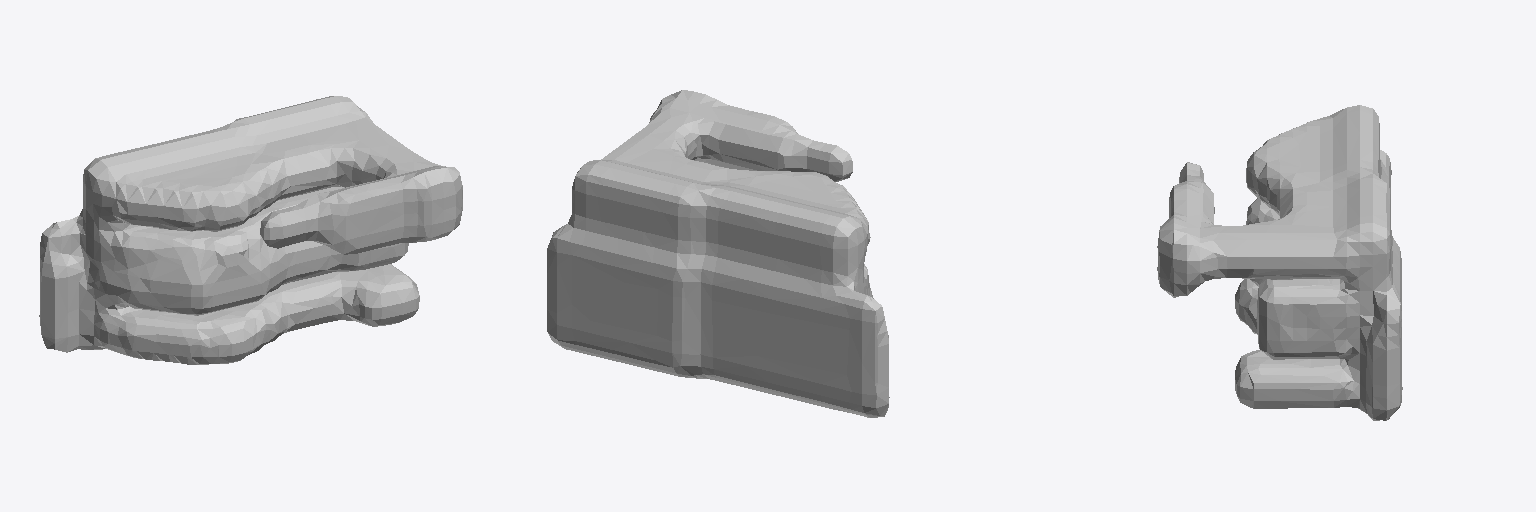
Rendered from profile.obj.
The picture shows the model from 3 angles: view 1: azimuth 30°, elevation 25°; view 2: azimuth 150°, elevation 25°; view 3: azimuth 270°, elevation 25°; orthographic projection.
Size of the model in its own units: 1.53 by 0.8261 by 0.9643.